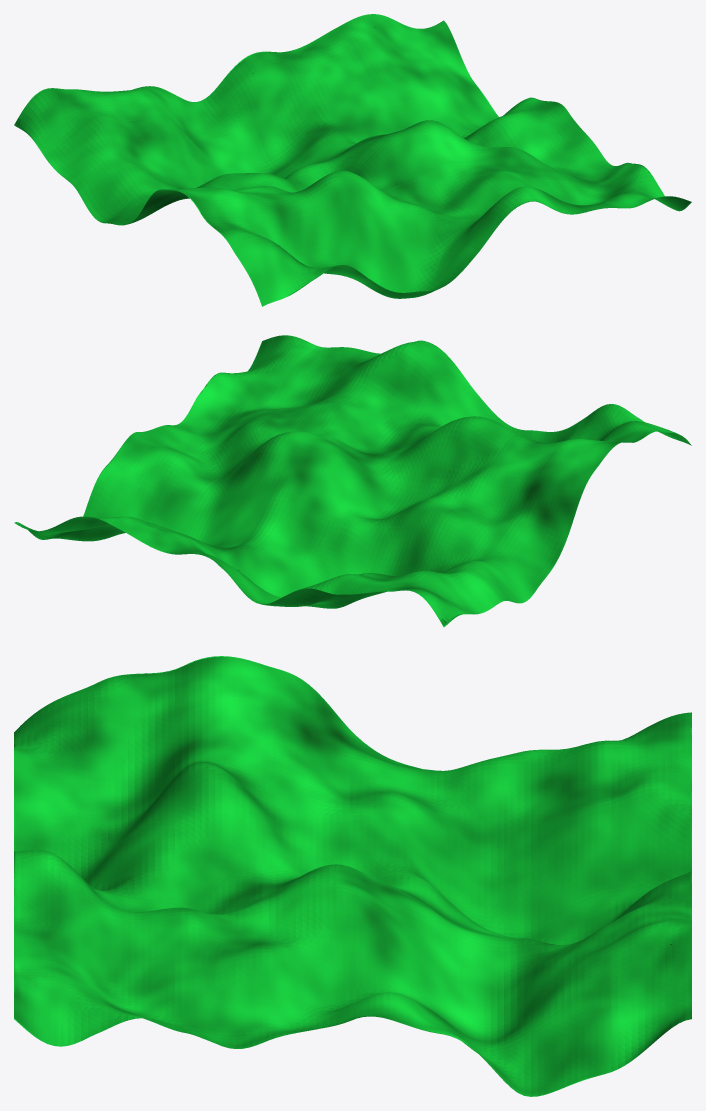
The model's file is floor1.obj.
The picture shows the model from 3 angles, top to bottom: view 1: azimuth 30°, elevation 25°; view 2: azimuth 150°, elevation 25°; view 3: azimuth 270°, elevation 25°; orthographic projection. The views are drawn at different scales.
Visible parts, largest first — view 1: 平面; view 2: 平面; view 3: 平面.
Boxes of the visible parts, box(x1,y1,x2,y2) form: 平面: box(14, 14, 691, 306); 平面: box(14, 335, 691, 627); 平面: box(14, 656, 691, 1096).
Size of the model in its own units: 3.4 by 0.9276 by 3.4.
1 material, 1 textured.
